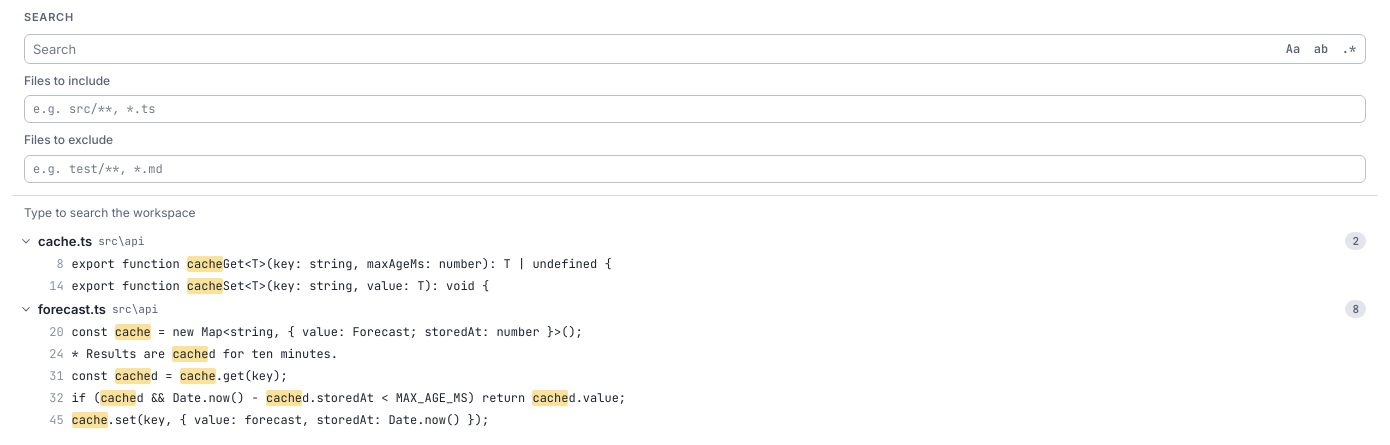
Test: SearchView › shows the invalid regex error and the empty notice
The image size is (1390, 445).
Click the button named "Regular expression" at (1349, 49), box [1336, 37, 1362, 61]
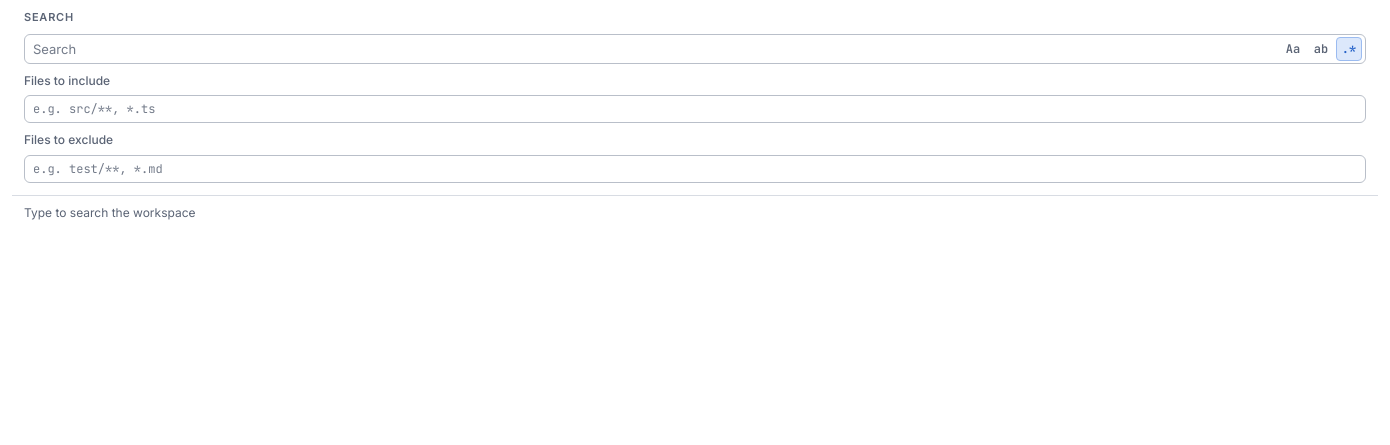
Type "(" into the field with test id "search-query" at (652, 49), box [25, 35, 1278, 63]
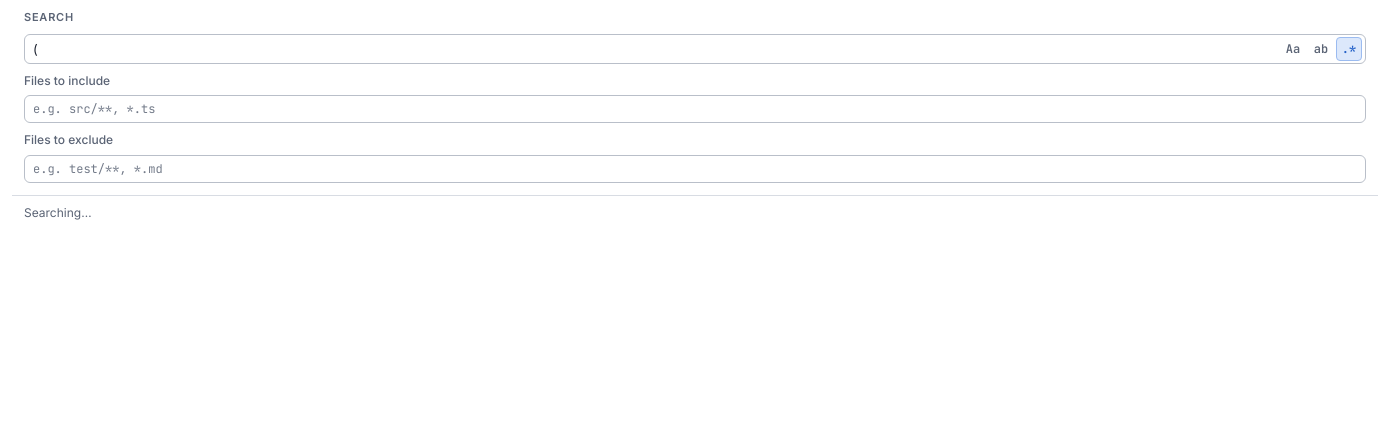
Submit the form with test id "search-form", box [12, 34, 1378, 196]
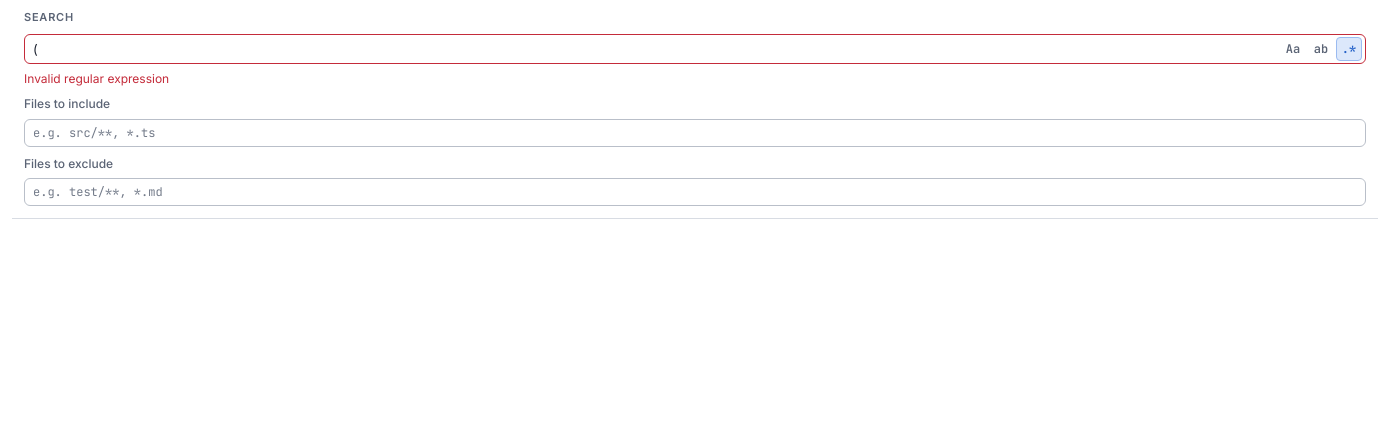
Result: the text with test id "search-summary" no longer shows "Searching…"
Result: the message reads "Invalid regular expression" at [24, 71, 169, 86]
Click the button named "Regular expression" at (1349, 49), box [1336, 37, 1362, 61]
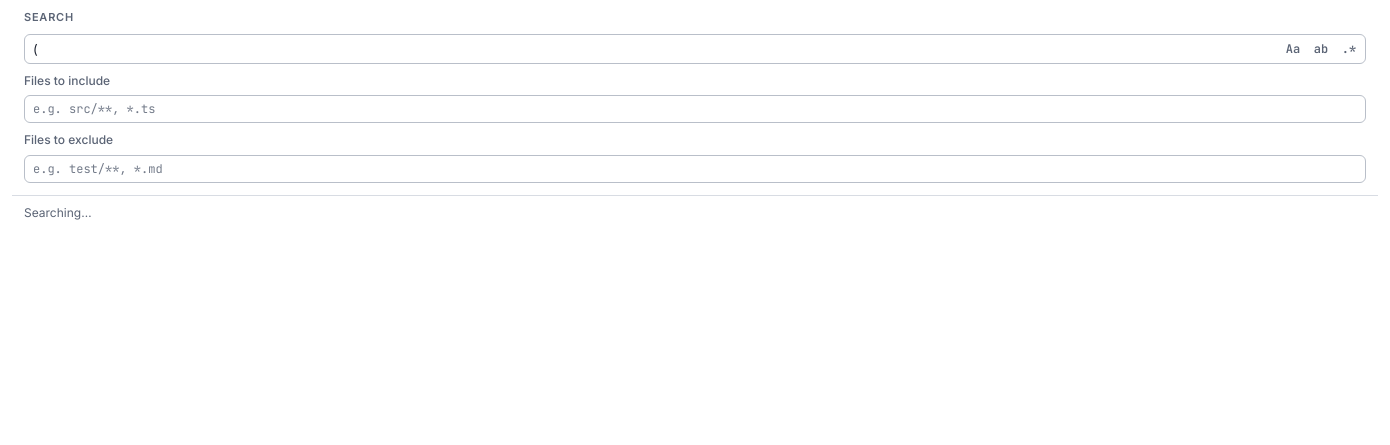
Replace the text in the field with test id "search-query" with "zzzz-not-in-any-file" at (652, 49), box [25, 35, 1278, 63]
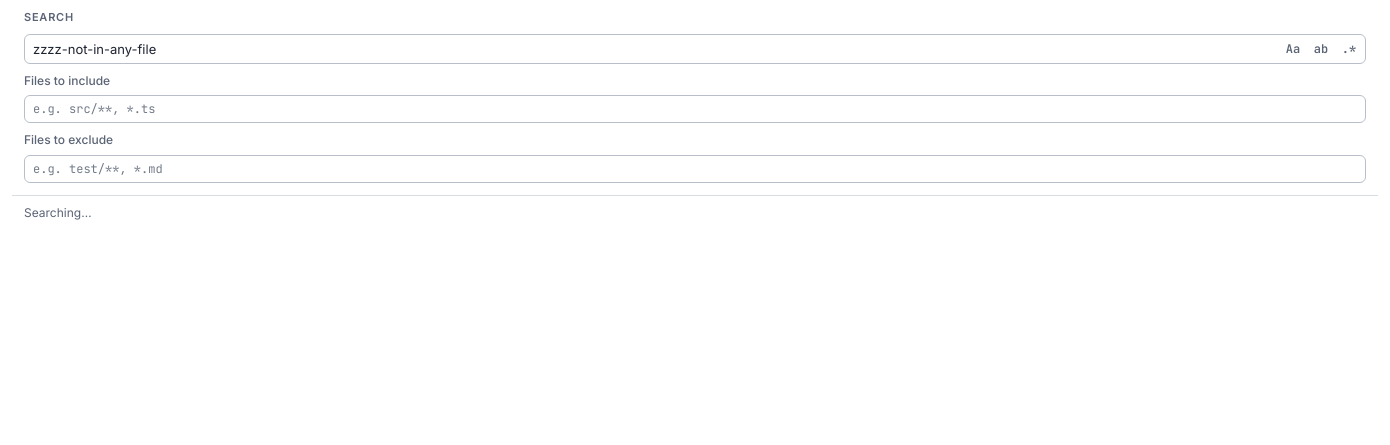
Submit the form with test id "search-form", box [12, 34, 1378, 196]
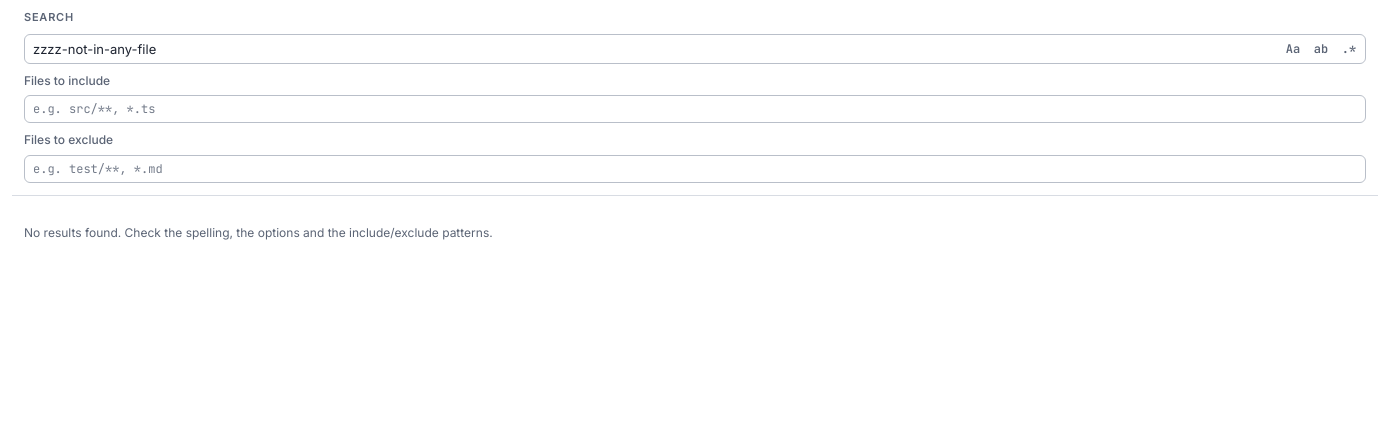
Result: the text with test id "search-summary" no longer shows "Searching…"
Result: the text with test id "search-empty" is shown at [24, 225, 493, 240]
